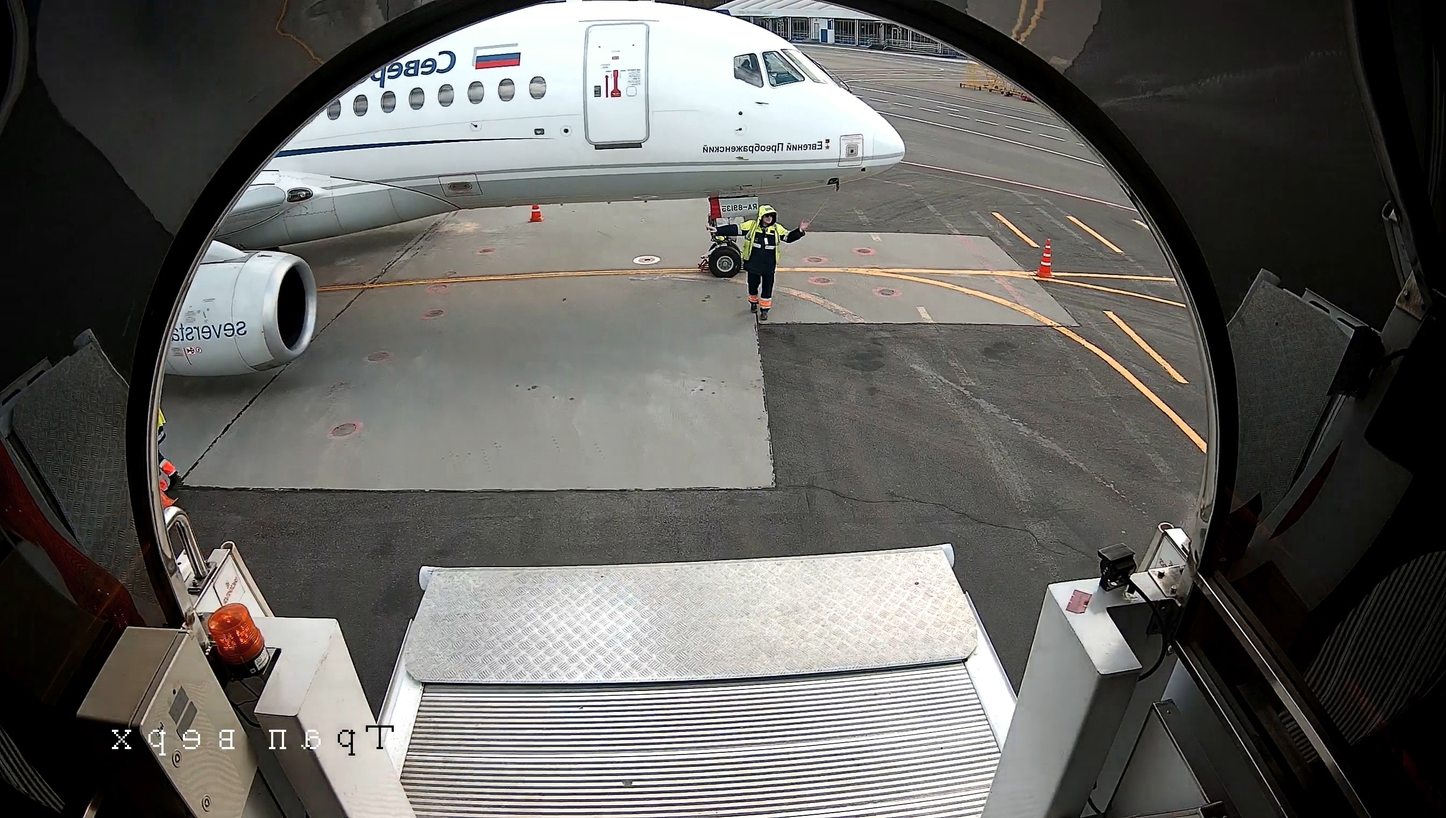boots: (688, 252, 715, 276)
wheels: (707, 245, 742, 278)
